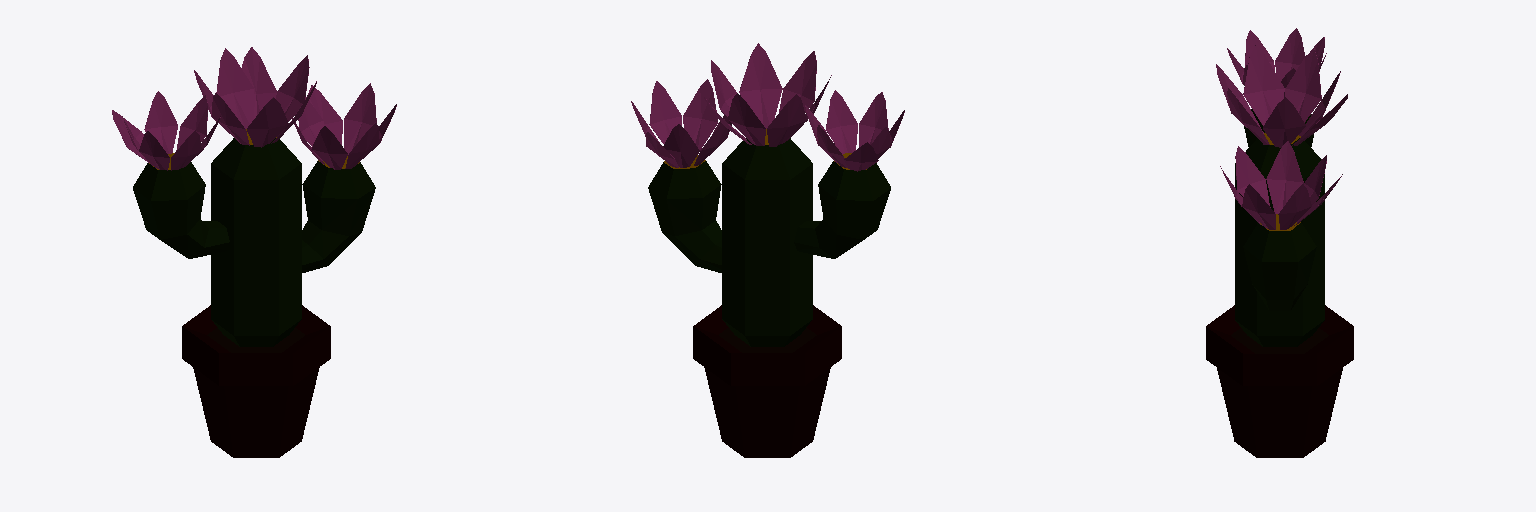
The model's file is FlowerPot5.obj.
The picture shows the model from 3 angles: view 1: azimuth 30°, elevation 25°; view 2: azimuth 150°, elevation 25°; view 3: azimuth 270°, elevation 25°; orthographic projection.
Visible parts, largest first — view 1: FlowerPot5_Cylinder.002; view 2: FlowerPot5_Cylinder.002; view 3: FlowerPot5_Cylinder.002.
Part boxes in pixels (x1,y1,x2,y2): FlowerPot5_Cylinder.002: (112, 47, 396, 457); FlowerPot5_Cylinder.002: (631, 43, 904, 457); FlowerPot5_Cylinder.002: (1206, 28, 1353, 457).
Size of the model in its own units: 1.44 by 2.02 by 0.7312.